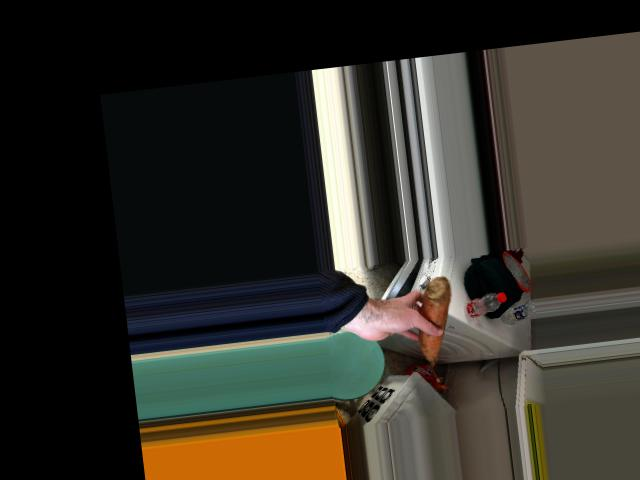sweet_potato: (417, 277, 453, 370)
